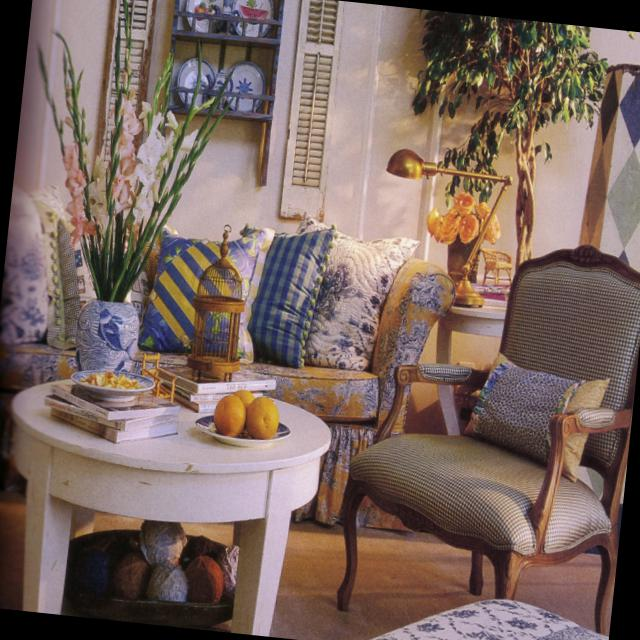cage: (189, 225, 242, 374)
chair -occluded-: (340, 246, 640, 632)
coconut: (138, 521, 188, 566), (72, 544, 113, 598), (109, 549, 150, 598), (146, 562, 189, 602), (215, 545, 239, 596), (180, 537, 218, 567)
coconuts: (63, 519, 239, 629)
coconuts in bowl: (184, 555, 223, 601)
coffee table: (9, 376, 332, 635)
decorative wood: (578, 60, 640, 267)
end table: (434, 305, 504, 435)
lamp crop: (387, 149, 511, 304)
minature chair: (141, 352, 174, 402), (480, 246, 511, 282)
orange: (212, 392, 246, 437), (246, 396, 279, 440), (236, 388, 256, 408)
ottoman: (367, 596, 608, 640)
pillow occluded: (461, 349, 611, 481), (296, 212, 421, 370), (138, 222, 275, 364), (32, 198, 158, 350), (249, 223, 339, 368), (0, 178, 67, 346)
plate food: (195, 414, 291, 447), (70, 369, 154, 402), (175, 55, 215, 106), (225, 62, 262, 112), (233, 0, 271, 34), (184, 0, 220, 30)
potted flowers: (425, 190, 502, 282)
shelf crop: (164, 0, 283, 181)
shutter: (279, 0, 344, 220), (97, 0, 154, 144)
sofa bed: (0, 254, 456, 531)
stack of books: (43, 389, 180, 444), (162, 362, 272, 411), (474, 272, 510, 304)
tea pot: (209, 0, 242, 33)
tree: (410, 12, 609, 264)
vase with flowers: (36, 0, 229, 367)
wall clock: (15, 0, 640, 432)
